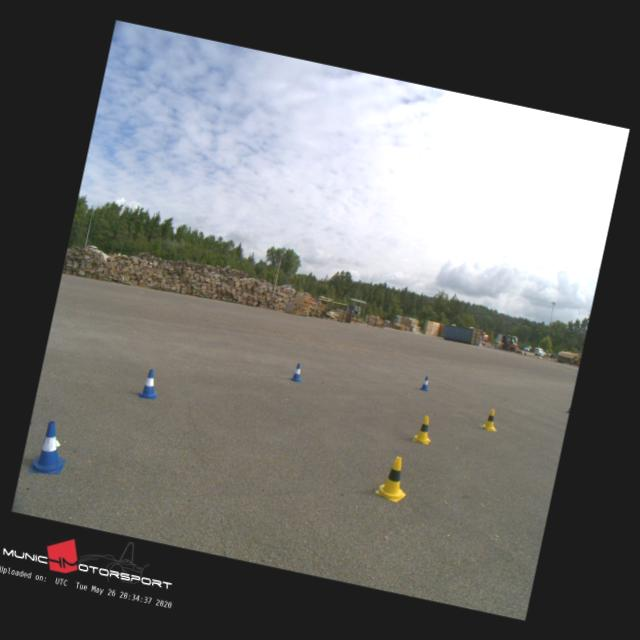blue_cone: (28, 418, 72, 478), (138, 367, 160, 399), (290, 362, 304, 382), (419, 375, 432, 391)
yellow_cone: (374, 453, 412, 503), (412, 413, 434, 443), (479, 407, 500, 431)
